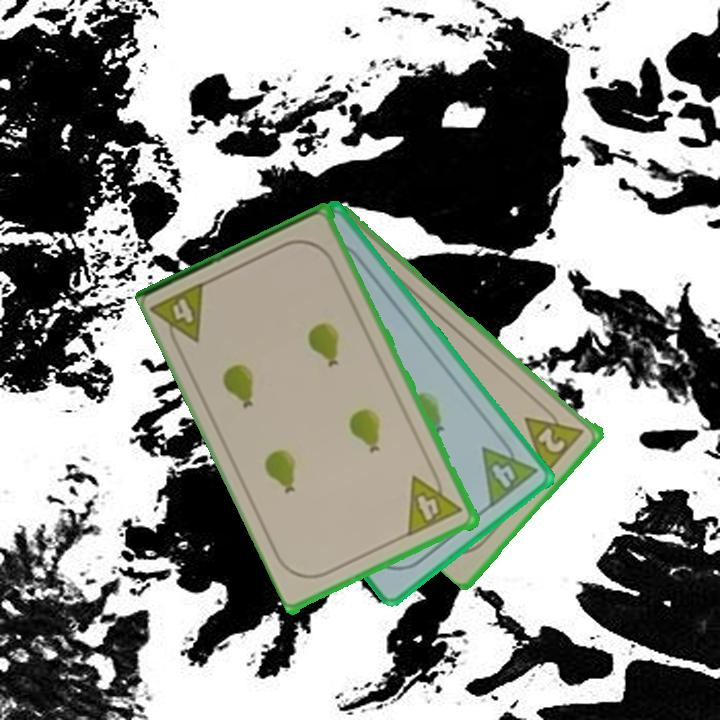2p: (521, 398, 588, 477)
4p: (478, 431, 540, 511), (149, 278, 211, 354), (404, 465, 466, 539)
